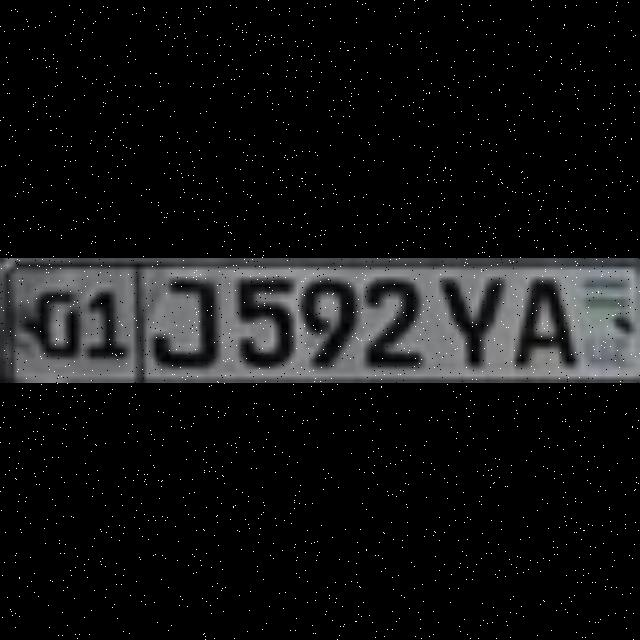0: (30, 288, 74, 352)
1: (76, 283, 120, 353)
2: (355, 273, 415, 363)
5: (230, 273, 290, 363)
9: (295, 273, 355, 363)
A: (506, 273, 570, 363)
J: (145, 273, 215, 363)
Y: (430, 273, 500, 363)
